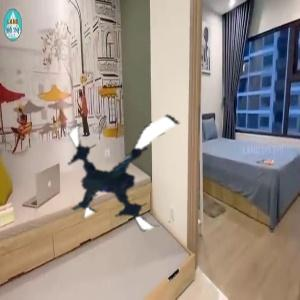drone: (56, 99, 200, 243)
